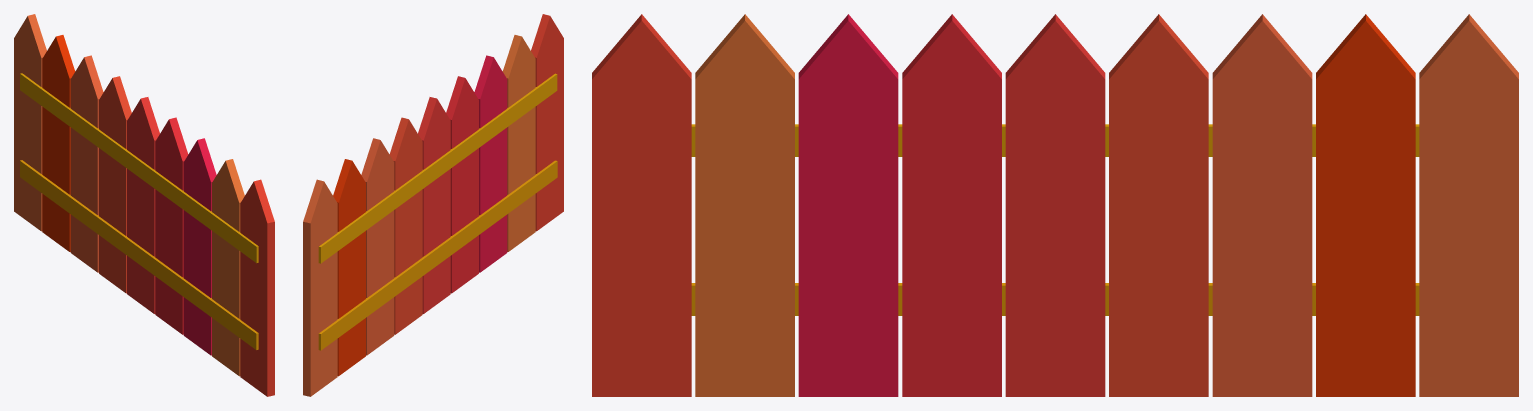
File: plot.fbx
3 views of the same model, side by side, from view 1: azimuth 30°, elevation 25°; view 2: azimuth 150°, elevation 25°; view 3: azimuth 270°, elevation 25° (orthographic). The views are drawn at different scales.
Parts seen in each view (by area): view 1: Cube.006, Cube.004, Cube.003, Cube.007, Cube.002, Cube.005, Cube.008, Cube, Kostka.001, Cube.001, Kostka; view 2: Cube.004, Cube.006, Cube.003, Cube.007, Cube.001, Cube.005, Cube.008, Cube, Cube.002, Kostka.001, Kostka; view 3: Cube, Cube.003, Cube.007, Cube.001, Cube.005, Cube.008, Cube.002, Cube.004, Cube.006, Kostka, Kostka.001.
Part boxes in pixels (<box>): Cube.006: <box>240,179,274,396</box>; Cube.004: <box>14,14,46,231</box>; Cube.003: <box>70,55,103,272</box>; Cube.007: <box>183,138,216,355</box>; Cube.002: <box>155,117,188,334</box>; Cube.005: <box>42,35,75,251</box>; Cube.008: <box>212,159,244,376</box>; Cube: <box>127,97,159,313</box>; Kostka.001: <box>20,160,258,349</box>; Cube.001: <box>99,76,131,293</box>; Kostka: <box>20,73,258,263</box>; Cube.004: <box>303,179,337,396</box>; Cube.006: <box>531,14,563,231</box>; Cube.003: <box>361,138,394,355</box>; Cube.007: <box>474,55,507,272</box>; Cube.001: <box>389,117,422,334</box>; Cube.005: <box>333,159,365,376</box>; Cube.008: <box>502,35,535,251</box>; Cube: <box>418,97,450,313</box>; Cube.002: <box>446,76,478,293</box>; Kostka.001: <box>318,160,557,350</box>; Kostka: <box>318,73,557,263</box>; Cube: <box>1005,14,1105,396</box>; Cube.003: <box>1212,14,1312,396</box>; Cube.007: <box>798,14,898,396</box>; Cube.001: <box>1109,14,1208,396</box>; Cube.005: <box>1316,14,1415,396</box>; Cube.008: <box>695,14,794,396</box>; Cube.002: <box>902,14,1001,396</box>; Cube.004: <box>1419,14,1518,396</box>; Cube.006: <box>592,14,691,396</box>; Kostka: <box>691,124,1419,156</box>; Kostka.001: <box>691,283,1419,315</box>.
Size of the model in its own units: 11.83 by 237 by 529.
